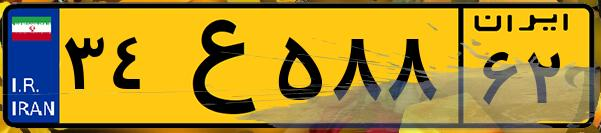2: (525, 38, 570, 115)
3: (57, 26, 110, 100)
4: (110, 28, 158, 98)
5: (270, 28, 330, 110)
6: (475, 38, 525, 113)
8: (385, 28, 445, 110), (330, 28, 385, 110)
ع: (158, 12, 270, 120)
